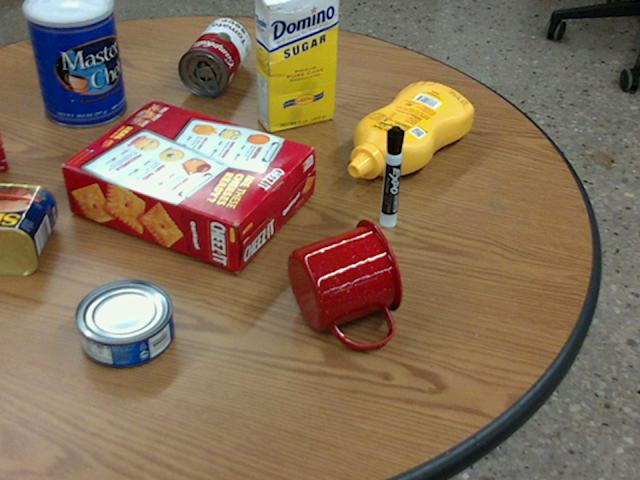cracker_box: (64, 99, 313, 271)
gelatin_box: (0, 130, 7, 169)
large_marker: (380, 126, 403, 227)
master_chef_can: (25, 0, 126, 126)
mug: (287, 219, 403, 348)
mustard_bottle: (348, 83, 472, 178)
potted_meat_can: (0, 182, 56, 273)
sugar_box: (256, 0, 338, 132)
tomato_soup_can: (177, 17, 249, 95)
tuna_fish_can: (74, 278, 172, 366)
